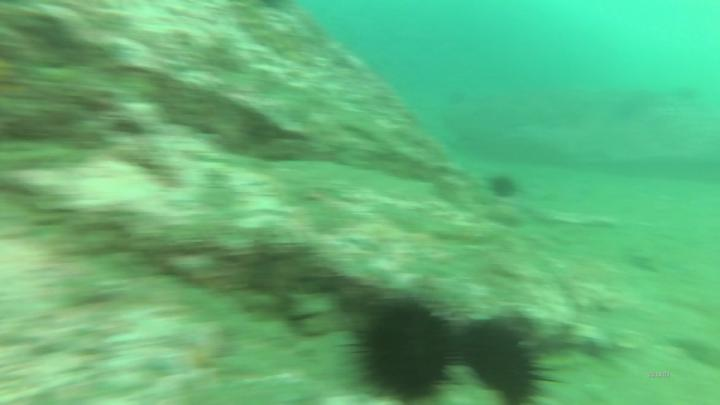echinus: (353, 293, 454, 405), (454, 316, 541, 405)
